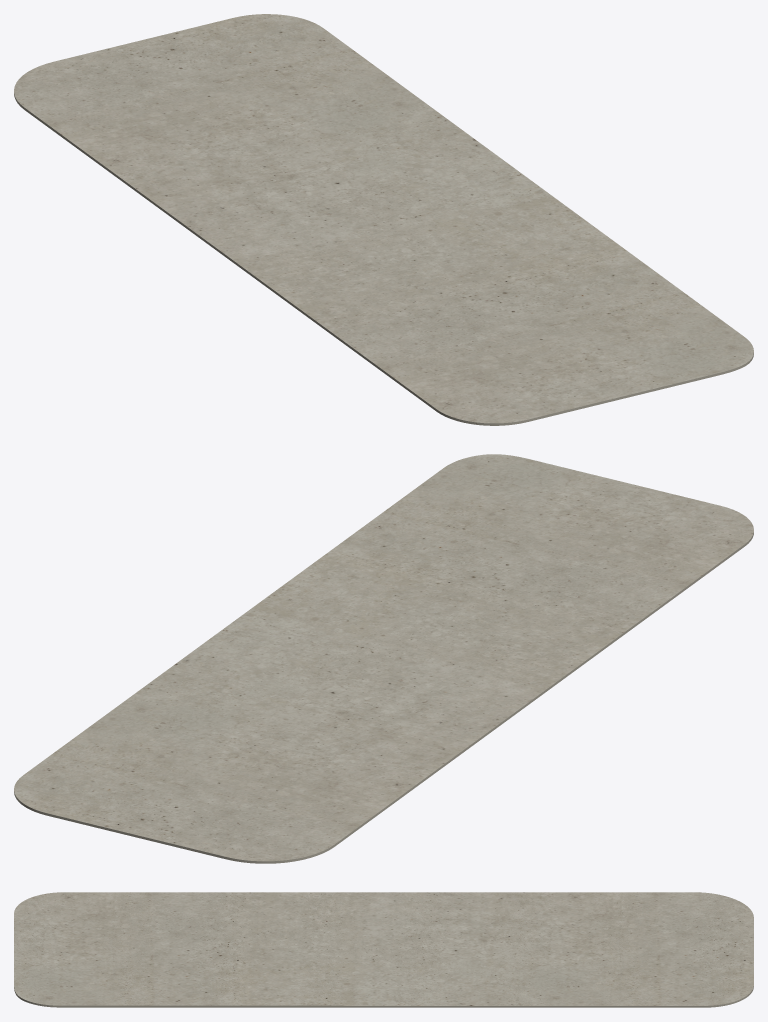
The model's file is ground001.FBX.
3 renders of one model, top to bottom at view 1: azimuth 30°, elevation 25°; view 2: azimuth 150°, elevation 25°; view 3: azimuth 270°, elevation 25°, orthographic. The views are drawn at different scales.
Visible parts, largest first — view 1: Rectangle001; view 2: Rectangle001; view 3: Rectangle001.
Part boxes in pixels (x1,y1,x2,y2): Rectangle001: (14,14,753,425); Rectangle001: (14,454,753,863); Rectangle001: (14,892,753,1007).
Size of what is drawn, in the model's own units: 53.09 by 0.4 by 146.
